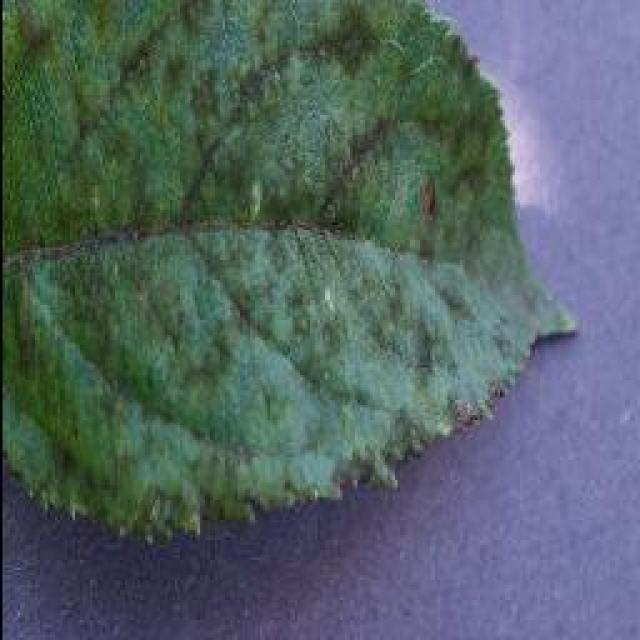apple scab disease: (0, 0, 578, 545)
